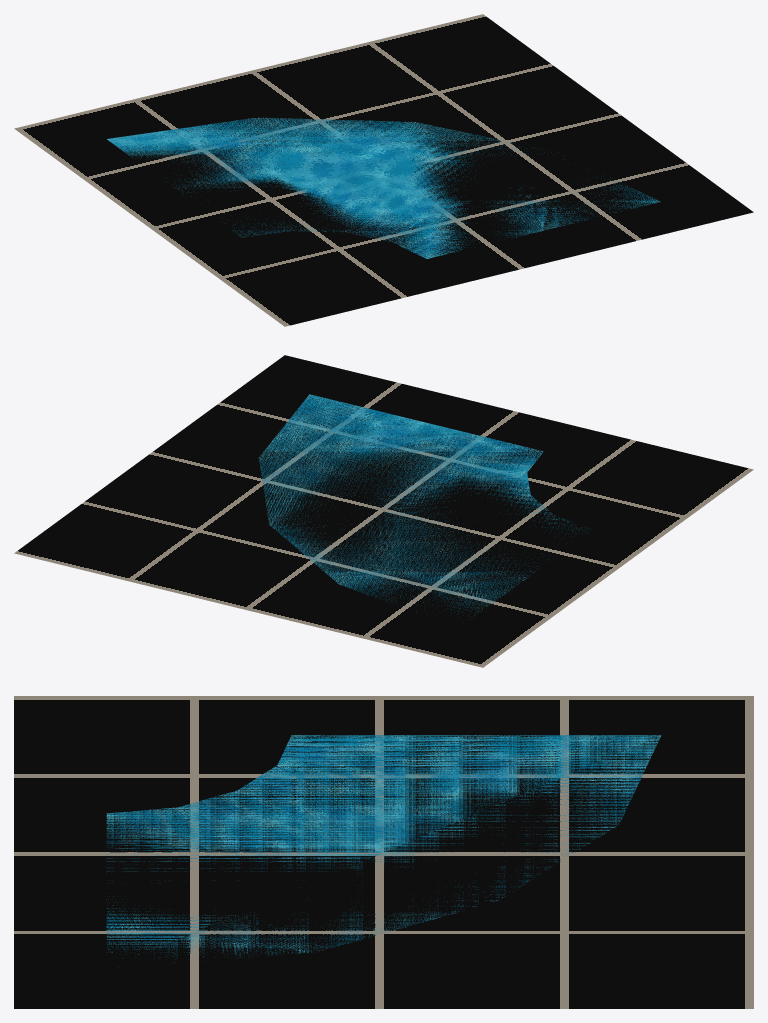
File: Terrain_Water_River_Curve_CW_3x3.glb
The picture shows the model from 3 angles, top to bottom: view 1: azimuth 30°, elevation 25°; view 2: azimuth 150°, elevation 25°; view 3: azimuth 270°, elevation 25°; orthographic projection. The views are drawn at different scales.
Parts seen in each view (by area): view 1: Floor, Terrain_Water_River_Curve_CW_3x3; view 2: Floor, Terrain_Water_River_Curve_CW_3x3; view 3: Floor, Terrain_Water_River_Curve_CW_3x3.
Boxes of the visible parts, x1,y1,x2,y2 form: Floor: [14, 14, 753, 326]; Terrain_Water_River_Curve_CW_3x3: [107, 117, 660, 258]; Floor: [14, 355, 753, 667]; Terrain_Water_River_Curve_CW_3x3: [258, 394, 582, 615]; Floor: [14, 696, 753, 1008]; Terrain_Water_River_Curve_CW_3x3: [106, 735, 660, 959].
Bounding box in the file's own units: 400 × 2.52e-06 × 400.
2 materials, 2 textured.
